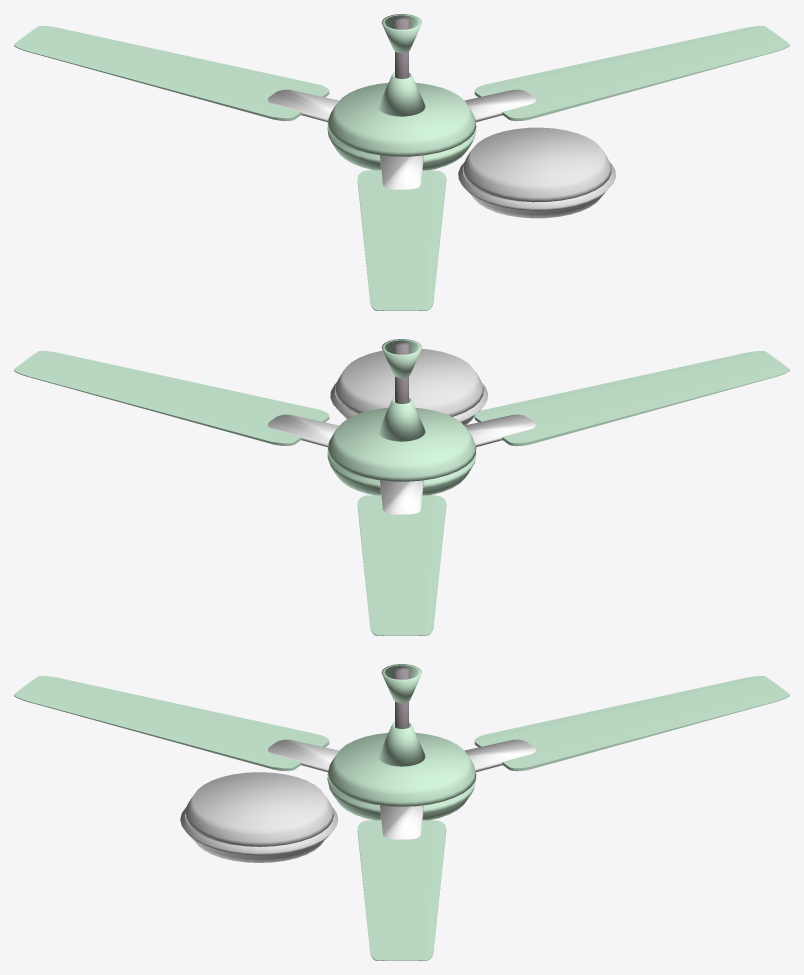
The model's file is newFanLight.glb.
3 views of the same model, one above another, from view 1: azimuth 30°, elevation 25°; view 2: azimuth 150°, elevation 25°; view 3: azimuth 270°, elevation 25° (orthographic).
Parts seen in each view (by area): view 1: wider cylinder, Cube.004, Cube, Cube.002, Cylinder, Cylinder.002, Cube.003, Cube.001, Cube.005, Cylinder.003, Cylinder.001; view 2: Cube, Cube.002, Cube.004, Cylinder, wider cylinder, Cylinder.002, Cube.005, Cube.003, Cube.001, Cylinder.003, Cylinder.001; view 3: wider cylinder, Cube.002, Cube.004, Cube, Cylinder, Cylinder.002, Cube.001, Cube.005, Cube.003, Cylinder.003, Cylinder.001.
Boxes of the visible parts, left/top/right/bottom form: wider cylinder: left=458, top=127, right=615, bottom=218; Cube.004: left=14, top=25, right=329, bottom=120; Cube: left=474, top=26, right=789, bottom=121; Cube.002: left=357, top=170, right=446, bottom=310; Cylinder: left=327, top=82, right=476, bottom=170; Cylinder.002: left=378, top=72, right=425, bottom=116; Cube.003: left=379, top=155, right=423, bottom=189; Cube.001: left=465, top=89, right=535, bottom=122; Cube.005: left=268, top=89, right=338, bottom=122; Cylinder.003: left=381, top=14, right=421, bottom=52; Cylinder.001: left=395, top=16, right=408, bottom=78; Cube: left=14, top=350, right=329, bottom=445; Cube.002: left=474, top=351, right=789, bottom=446; Cube.004: left=357, top=495, right=446, bottom=635; Cylinder: left=327, top=408, right=476, bottom=495; wider cylinder: left=330, top=349, right=487, bottom=425; Cylinder.002: left=378, top=397, right=425, bottom=441; Cube.005: left=379, top=480, right=423, bottom=514; Cube.003: left=464, top=414, right=535, bottom=447; Cube.001: left=268, top=414, right=338, bottom=447; Cylinder.003: left=381, top=339, right=421, bottom=377; Cylinder.001: left=395, top=341, right=408, bottom=403; wider cylinder: left=180, top=772, right=338, bottom=862; Cube.002: left=14, top=675, right=329, bottom=770; Cube.004: left=474, top=676, right=789, bottom=771; Cube: left=357, top=820, right=446, bottom=960; Cylinder: left=327, top=732, right=476, bottom=820; Cylinder.002: left=378, top=722, right=425, bottom=766; Cube.001: left=379, top=805, right=423, bottom=839; Cube.005: left=464, top=739, right=535, bottom=772; Cube.003: left=268, top=739, right=338, bottom=772; Cylinder.003: left=381, top=664, right=421, bottom=702; Cylinder.001: left=395, top=666, right=408, bottom=728.
Bounding box in the file's own units: 10.37 × 2.37 × 11.95.
